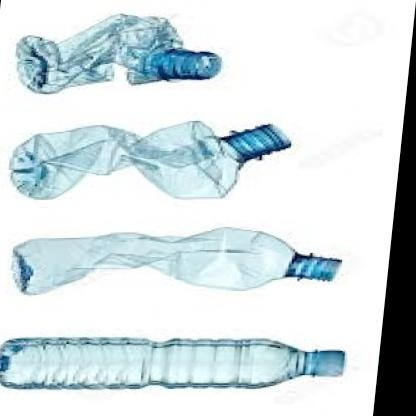trash: (13, 227, 340, 293), (10, 121, 290, 198), (0, 337, 344, 387), (16, 14, 220, 93)
